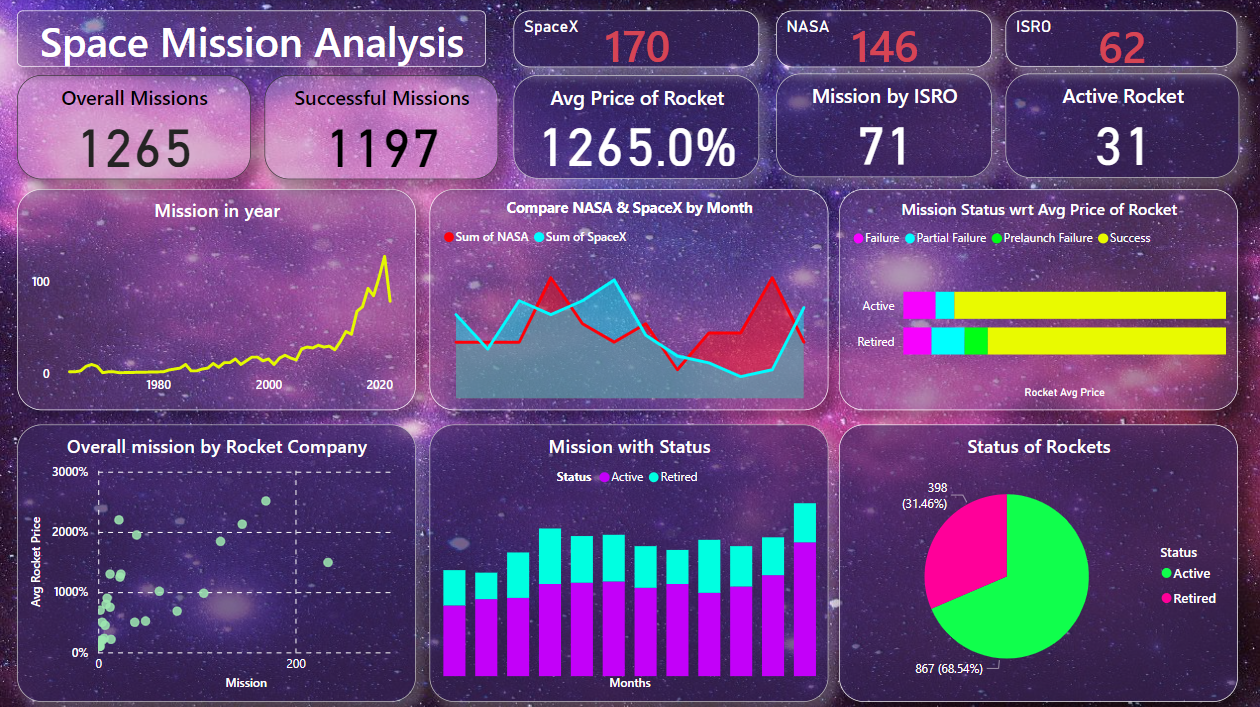

This screenshot's page, from the dashboard's own definition file:
{"tool":"powerbi","page":{"name":"Page 1","canvas":[1280,720],"ordinal":0},"visuals":[{"type":"scatterChart","title":"Overall mission by Rocket Company","fields":{"Category":["space_missions.Company"],"X":["Sum(space_missions.about mission)"],"Y":["space_missions.Count of Price average per Rocket"]},"box":[21.4,431.8,402.7,280.2],"z":0},{"type":"lineChart","title":"Mission in year","fields":{"Category":["space_missions.Date.Variation.Date Hierarchy.Year"],"Y":["CountNonNull(space_missions.Mission)"]},"box":[21.4,194.4,402.7,223.5],"z":1000},{"type":"columnChart","title":"Mission with Status","fields":{"Y":["CountNonNull(space_missions.Mission)"],"Series":["space_missions.RocketStatus"],"Category":["space_missions.Date.Variation.Date Hierarchy.Month"]},"box":[437.9,431.8,402.7,280.2],"z":2000},{"type":"hundredPercentStackedBarChart","title":"Mission Status wrt Avg Price  of Rocket","fields":{"Y":["space_missions.Avg Price of Rocket"],"Category":["space_missions.RocketStatus"],"Series":["space_missions.MissionStatus"]},"box":[851.3,194.4,402.7,223.5],"z":3000},{"type":"areaChart","title":"Compare NASA & SpaceX by Month","fields":{"Category":["space_missions.Date.Variation.Date Hierarchy.Month"],"Y":["Sum(space_missions.NASA)"],"Y2":["Sum(space_missions.SpaceX)"]},"box":[437.9,194.4,402.7,223.5],"z":4000},{"type":"card","title":"Overall Missions","fields":{"Values":["CountNonNull(space_missions.Mission)"]},"box":[21.4,78.1,235.8,105.6],"z":5000},{"type":"card","title":"Successful Missions","fields":{"Values":["Sum(space_missions.about mission)"]},"box":[271,78.1,235.8,105.6],"z":6000},{"type":"card","title":"Avg Price of Rocket","fields":{"Values":["space_missions.Avg Price of Rocket"]},"box":[522.4,78.7,248.3,104.5],"z":7000},{"type":"card","title":"Mission by ISRO","fields":{"Values":["Sum(space_missions.isro)"]},"box":[787.4,77.2,218,104.5],"z":8000},{"type":"card","title":"Active Rocket","fields":{"Values":["Count(space_missions.Company)"]},"box":[1019.7,76.6,236,105.6],"z":9000},{"type":"pieChart","title":"Status of Rockets","fields":{"Category":["space_missions.RocketStatus"],"Y":["CountNonNull(space_missions.Rocket)"]},"box":[851.3,431.8,402.7,280.2],"z":10000},{"type":"textbox","title":"Space Mission Analysis","box":[21.4,13.8,473.1,56.7],"z":11000},{"type":"kpi","title":"SpaceX","fields":{"Indicator":["Sum(space_missions.SpaceX)"],"Goal":["CountNonNull(space_missions.Rocket)"],"TrendLine":["space_missions.MissionStatus"]},"box":[522.4,13.6,248.3,57.5],"z":12000},{"type":"kpi","title":"ISRO","fields":{"Goal":["CountNonNull(space_missions.Rocket)"],"TrendLine":["space_missions.MissionStatus"],"Indicator":["Sum(space_missions.isro)"]},"box":[1019.7,13.8,234.3,56.7],"z":13000},{"type":"kpi","title":"NASA","fields":{"Goal":["CountNonNull(space_missions.Rocket)"],"TrendLine":["space_missions.MissionStatus"],"Indicator":["Sum(space_missions.NASA)"]},"box":[787.4,13.6,218,57.5],"z":14000}]}

Visuals, with their boxes in screenshot pixels (x1, y1, x2, y2), scaled from the page's 1280x720 canvas onto the 1260x707 screenshot:
"Overall mission by Rocket Company" scatterChart: detection(21, 424, 417, 699)
"Mission in year" lineChart: detection(21, 191, 417, 410)
"Mission with Status" columnChart: detection(431, 424, 827, 699)
"Mission Status wrt Avg Price  of Rocket" hundredPercentStackedBarChart: detection(838, 191, 1234, 410)
"Compare NASA & SpaceX by Month" areaChart: detection(431, 191, 827, 410)
"Overall Missions" card: detection(21, 77, 253, 180)
"Successful Missions" card: detection(267, 77, 499, 180)
"Avg Price of Rocket" card: detection(514, 77, 759, 180)
"Mission by ISRO" card: detection(775, 76, 990, 178)
"Active Rocket" card: detection(1004, 75, 1236, 179)
"Status of Rockets" pieChart: detection(838, 424, 1234, 699)
"Space Mission Analysis" textbox: detection(21, 14, 487, 69)
"SpaceX" kpi: detection(514, 13, 759, 70)
"ISRO" kpi: detection(1004, 14, 1234, 69)
"NASA" kpi: detection(775, 13, 990, 70)
